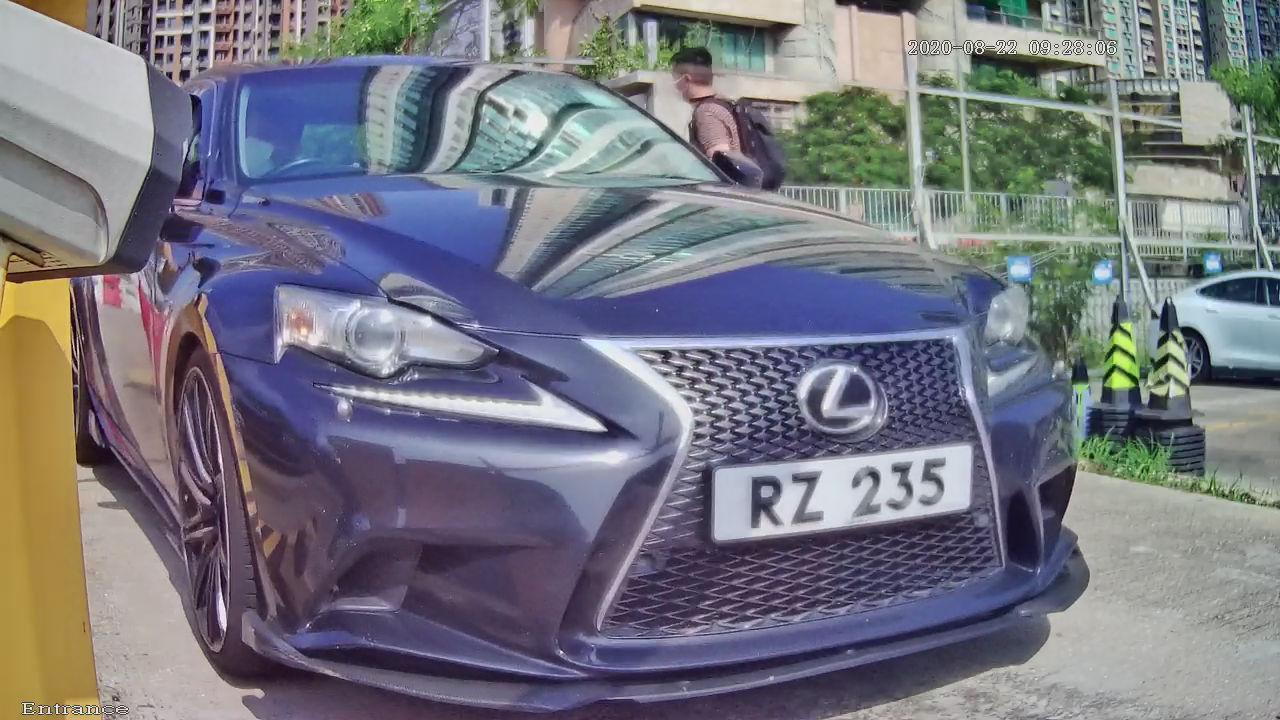Car: (63, 13, 1138, 717)
License Plate: (686, 408, 1007, 582)
